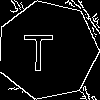T: (22, 25, 55, 71)
